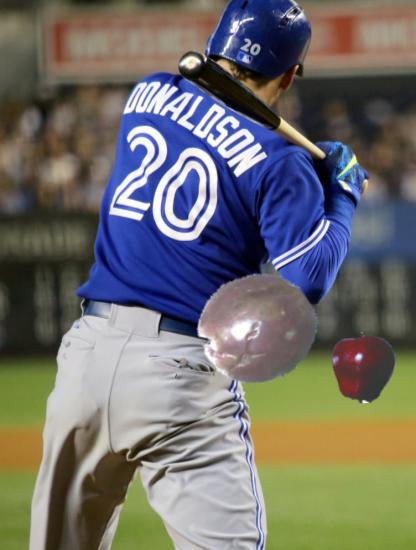Apple: (329, 332, 400, 403)
Passion: (197, 269, 318, 390)
